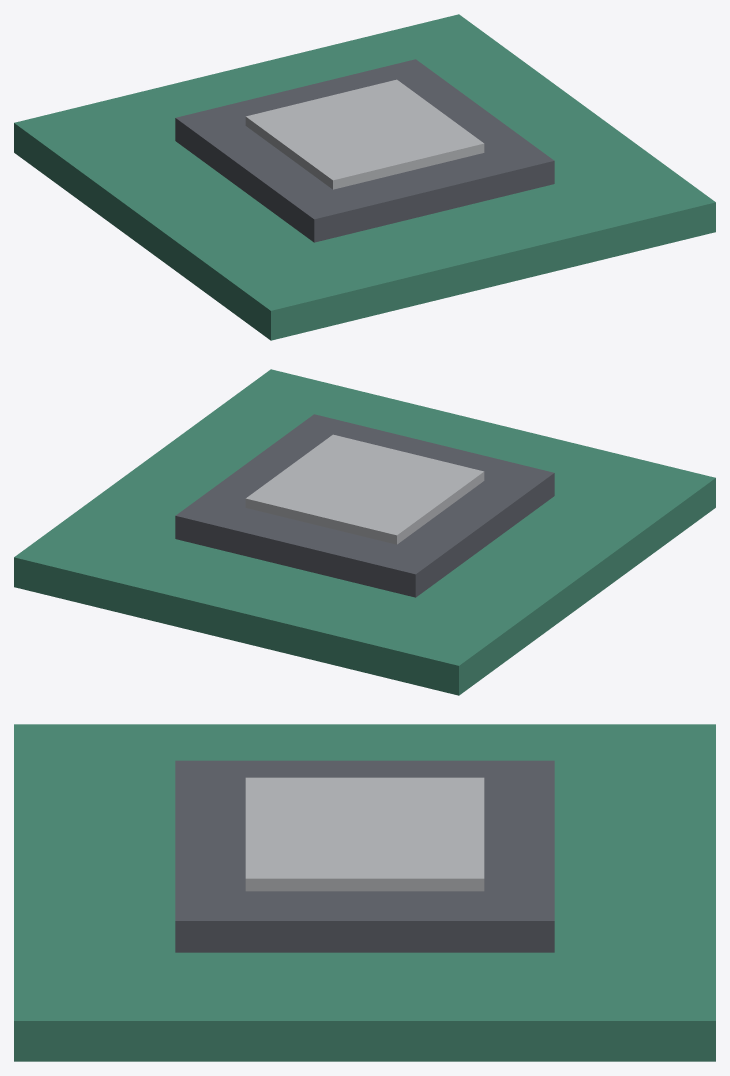
Rendered from procesador_cpu.glb.
The picture shows the model from 3 angles, top to bottom: view 1: azimuth 30°, elevation 25°; view 2: azimuth 150°, elevation 25°; view 3: azimuth 270°, elevation 25°; orthographic projection. The views are drawn at different scales.
Parts seen in each view (by area): view 1: world; view 2: world; view 3: world.
Boxes of the visible parts, box(x1,y1,x2,y2) form: world: box(14, 14, 715, 340); world: box(14, 369, 715, 695); world: box(14, 724, 715, 1061).
Bounding box in the file's own units: 2.5 × 0.38 × 2.5.
